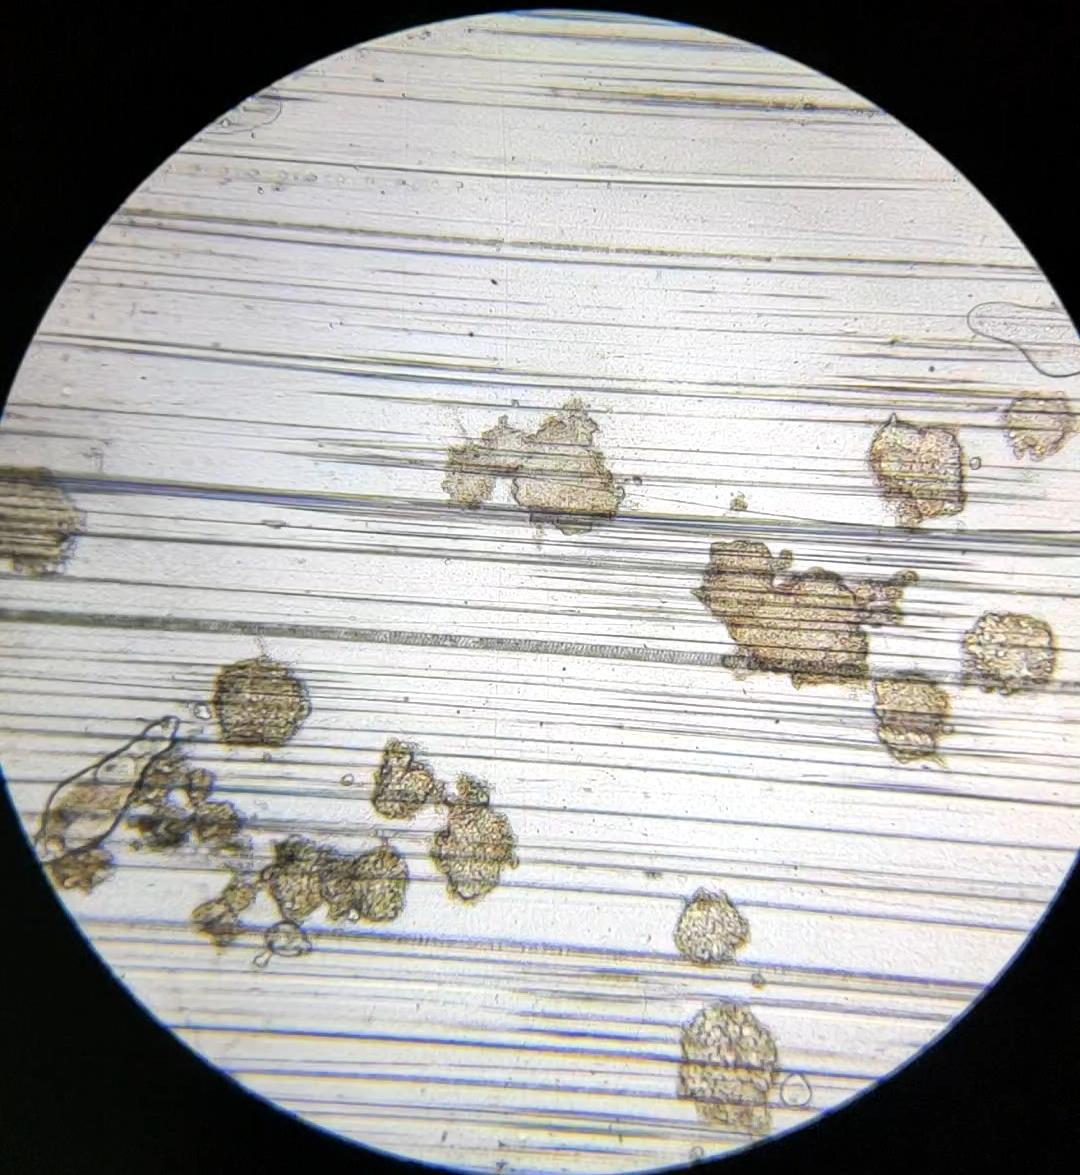Do: (33, 715, 180, 867)
